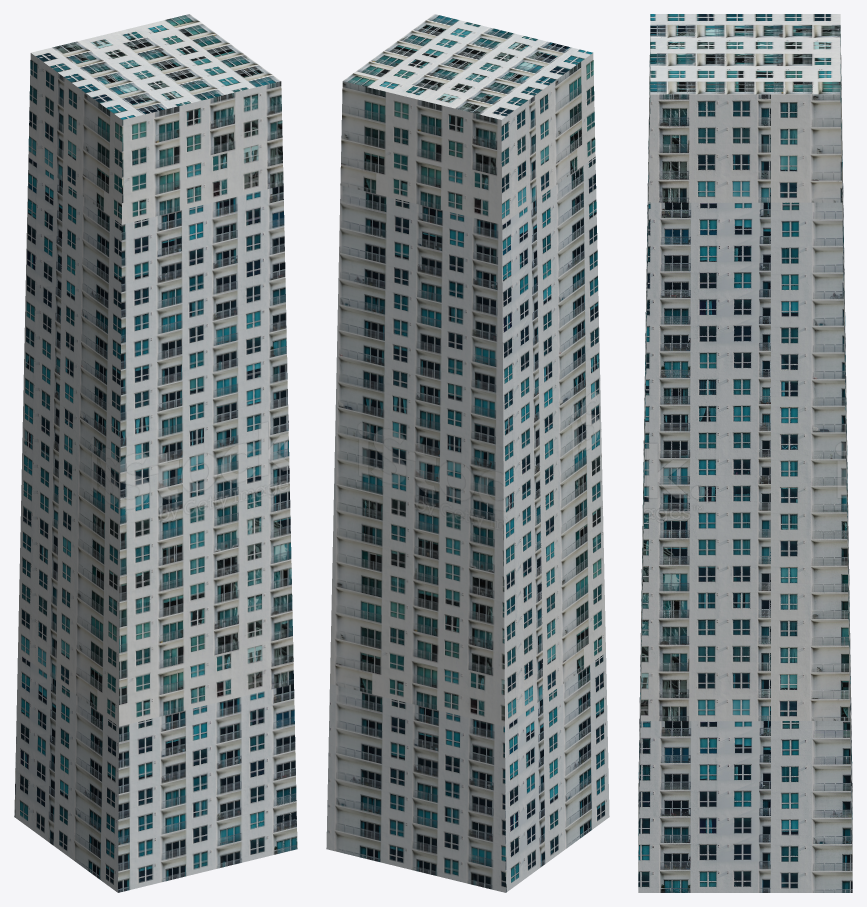
The model's file is House.fbx.
The picture shows the model from 3 angles, left to right: view 1: azimuth 30°, elevation 25°; view 2: azimuth 150°, elevation 25°; view 3: azimuth 270°, elevation 25°; orthographic projection. The views are drawn at different scales.
Visible parts, largest first — view 1: Cube.002, Cube.002_cell.102, Cube.002_cell.107, Cube.002_cell.103, Cube.002_cell.105, Cube.002_cell.106, Cube.002_cell.104, Cube.002_cell.109; view 2: Cube.002, Cube.002_cell.103, Cube.002_cell.102, Cube.002_cell.105, Cube.002_cell.107; view 3: Cube.002, Cube.002_cell.104, Cube.002_cell.107, Cube.002_cell.105, Cube.002_cell.102, Cube.002_cell.108, Cube.002_cell.106, Cube.002_cell.109.
Part boxes in pixels (x1,y1,x2,y2): Cube.002: (14, 15, 296, 892); Cube.002_cell.102: (55, 479, 295, 892); Cube.002_cell.107: (147, 55, 289, 505); Cube.002_cell.103: (65, 75, 199, 512); Cube.002_cell.105: (22, 14, 190, 450); Cube.002_cell.106: (240, 750, 297, 862); Cube.002_cell.104: (15, 444, 65, 792); Cube.002_cell.109: (187, 15, 245, 55); Cube.002: (326, 34, 609, 892); Cube.002_cell.103: (457, 35, 601, 480); Cube.002_cell.102: (547, 441, 604, 861); Cube.002_cell.105: (343, 61, 545, 510); Cube.002_cell.107: (400, 14, 515, 61); Cube.002: (640, 14, 852, 892); Cube.002_cell.104: (707, 497, 852, 860); Cube.002_cell.107: (644, 53, 827, 507); Cube.002_cell.105: (742, 14, 846, 497); Cube.002_cell.102: (638, 419, 711, 848); Cube.002_cell.108: (668, 735, 852, 892); Cube.002_cell.106: (638, 784, 690, 892); Cube.002_cell.109: (736, 72, 838, 141).
Size of the model in its own units: 515 by 2103 by 515.
